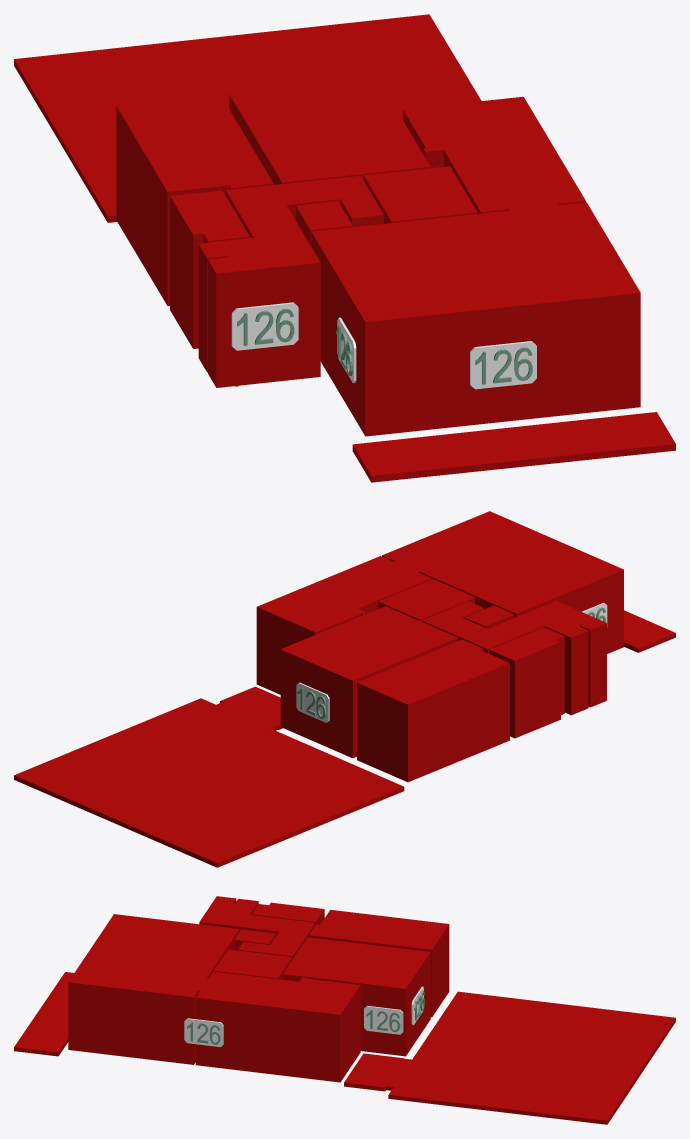
3 views of the same model, one above another, from view 1: azimuth 30°, elevation 25°; view 2: azimuth 150°, elevation 25°; view 3: azimuth 270°, elevation 25° (orthographic). The views are drawn at different scales.
Visible parts, largest first — view 1: g_7, g_9, g_5, g_0, g_1, g_2, g_8, g_6, g_3, g_29, g_33, g_4; view 2: g_9, g_0, g_7, g_1, g_2, g_5, g_6, g_3, g_8, g_17, g_4; view 3: g_9, g_7, g_2, g_1, g_0, g_5, g_8, g_3, g_6, g_25, g_13, g_4.
Part boxes in pixels (box(x1,y1,x2,y2)): g_7: box(311, 202, 640, 436); g_9: box(14, 14, 481, 222); g_5: box(198, 176, 383, 387); g_0: box(116, 95, 273, 305); g_1: box(229, 78, 430, 184); g_2: box(403, 96, 585, 213); g_8: box(352, 412, 675, 482); g_6: box(170, 190, 249, 348); g_3: box(364, 166, 477, 223); g_29: box(231, 302, 298, 350); g_33: box(470, 341, 536, 389); g_4: box(295, 201, 352, 246); g_9: box(14, 686, 404, 867); g_0: box(357, 639, 509, 782); g_7: box(382, 511, 623, 653); g_1: box(280, 606, 458, 758); g_2: box(256, 556, 431, 694); g_5: box(422, 601, 606, 715); g_6: box(489, 627, 564, 738); g_3: box(378, 579, 475, 621); g_8: box(624, 610, 675, 652); g_17: box(296, 682, 329, 722); g_4: box(464, 605, 514, 628); g_9: box(344, 991, 675, 1124); g_7: box(68, 914, 239, 1064); g_2: box(195, 971, 360, 1082); g_1: box(283, 937, 430, 1056); g_0: box(309, 909, 449, 1017); g_5: box(199, 896, 315, 959); g_8: box(14, 972, 73, 1056); g_3: box(214, 949, 292, 979); g_6: box(252, 902, 324, 925); g_25: box(364, 1006, 403, 1034); g_13: box(184, 1018, 223, 1047); g_4: box(234, 929, 275, 950).
Bounding box in the file's own units: 12.81 × 2.74 × 22.85.
